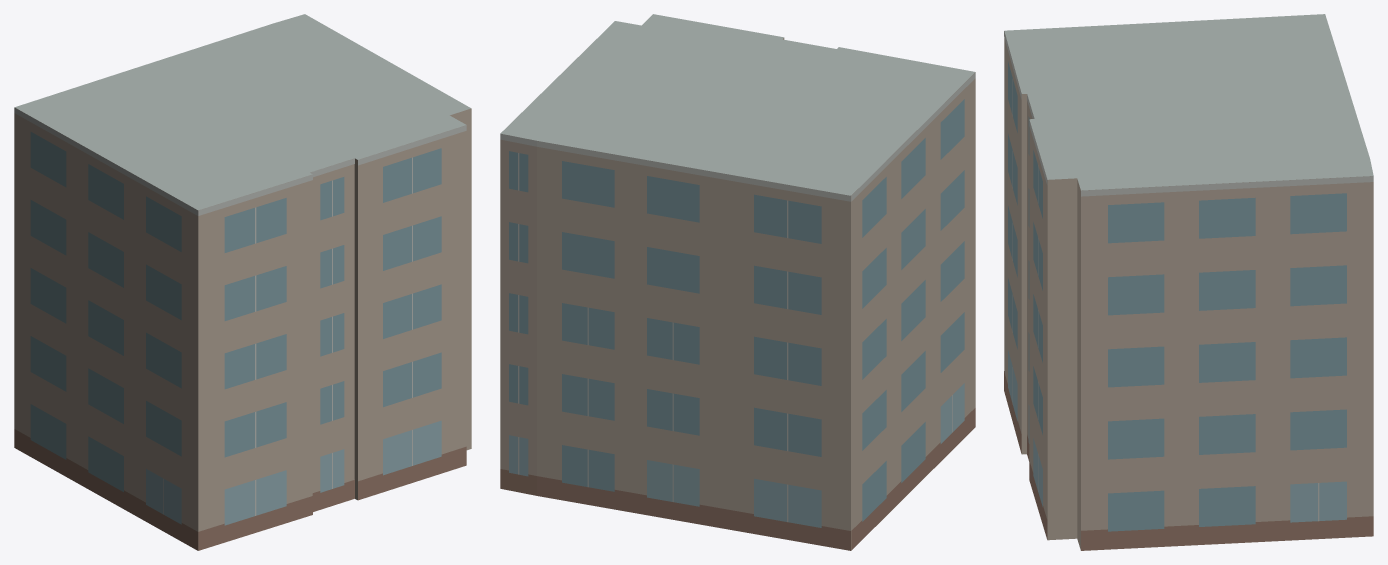
Rendered from survey-upis-32730915.glb.
3 renders of one model, left to right at view 1: azimuth 30°, elevation 25°; view 2: azimuth 150°, elevation 25°; view 3: azimuth 270°, elevation 25°, orthographic. The views are drawn at different scales.
Parts seen in each view (by area): view 1: survey-upis-32730915.tmp; view 2: survey-upis-32730915.tmp; view 3: survey-upis-32730915.tmp.
Boxes of the visible parts, bbox=[...] form: survey-upis-32730915.tmp: bbox=[14, 14, 471, 550]; survey-upis-32730915.tmp: bbox=[500, 14, 975, 550]; survey-upis-32730915.tmp: bbox=[1004, 14, 1373, 550].
Size of the model in its own units: 15.24 by 14.5 by 13.48.
